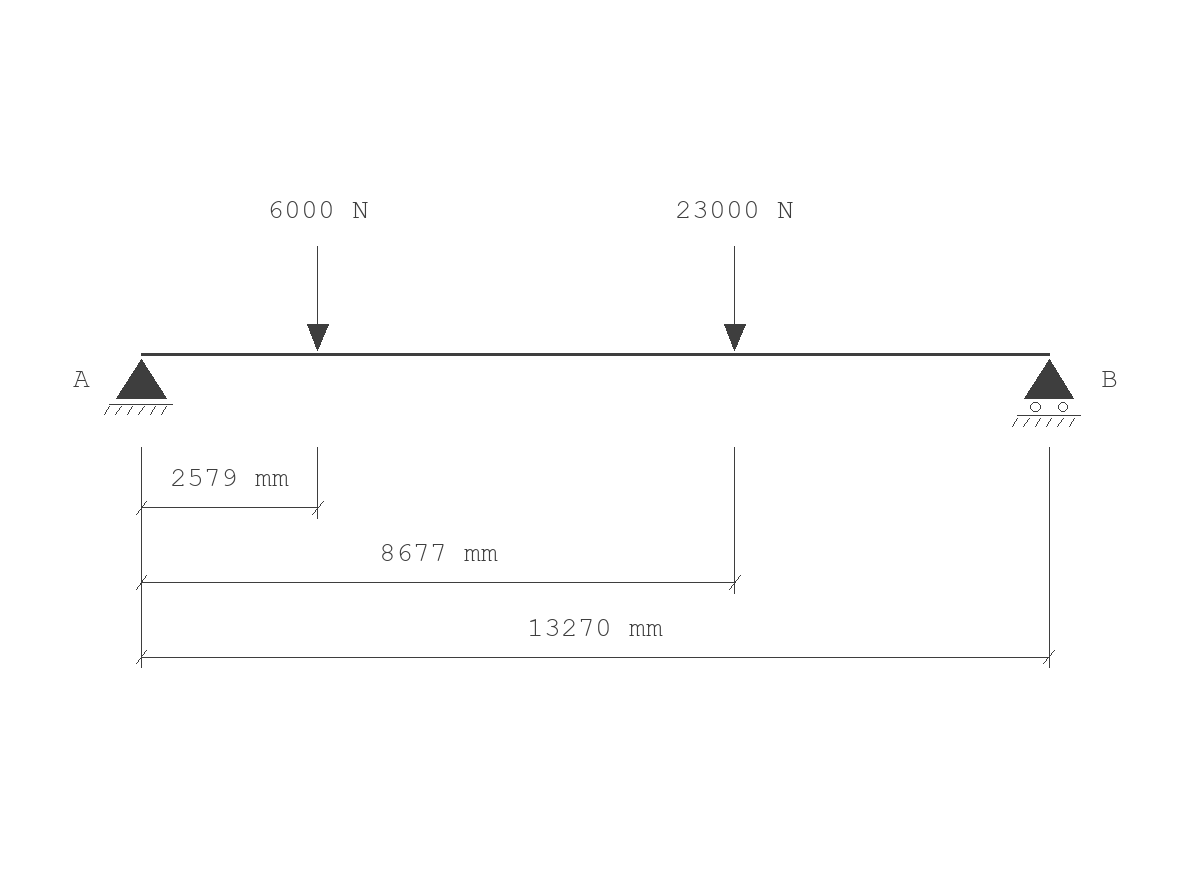pin_support: (104, 359, 173, 415)
point_load: (307, 246, 329, 351), (724, 246, 746, 351)
roller_support: (1012, 359, 1081, 427)
